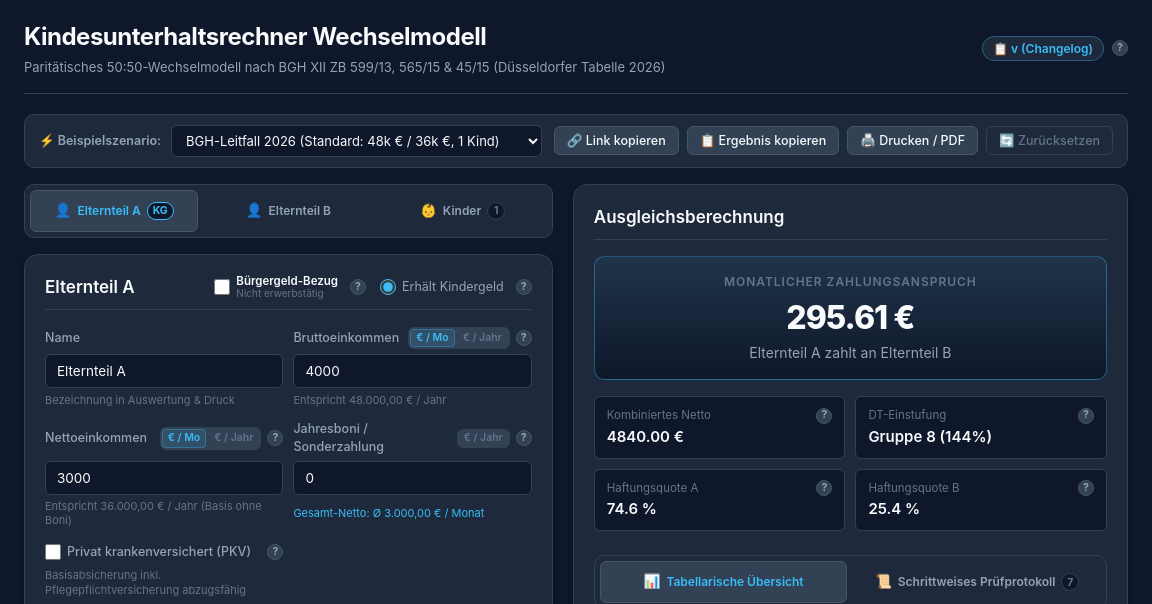
Scenario: App URL Hash Integration › sollte negative sonstige Mehrbedarfe (Bedarfsabzug) aus dem Hash in die Berechnung laden
The image size is (1152, 604).
Step 1. Click the button titled "Kinder" → [463, 211], box [378,190,547,232]
(page scrolled)
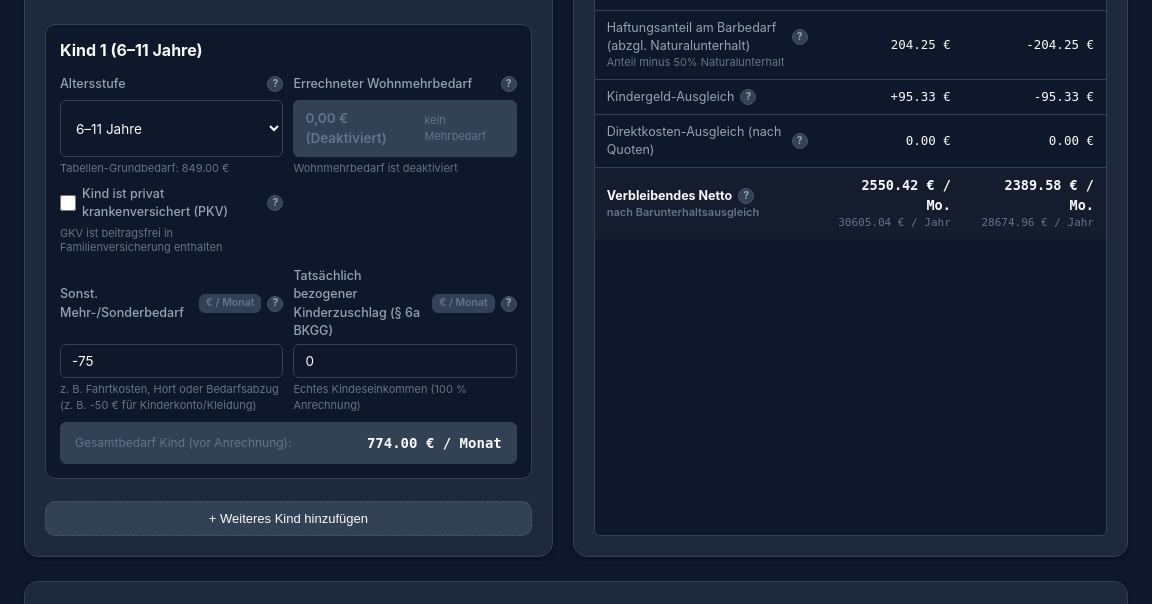
Check: the number field showing "-75" below "Sonst. Mehr-/Sonderbedarf" is shown, box [60,344,283,378]
